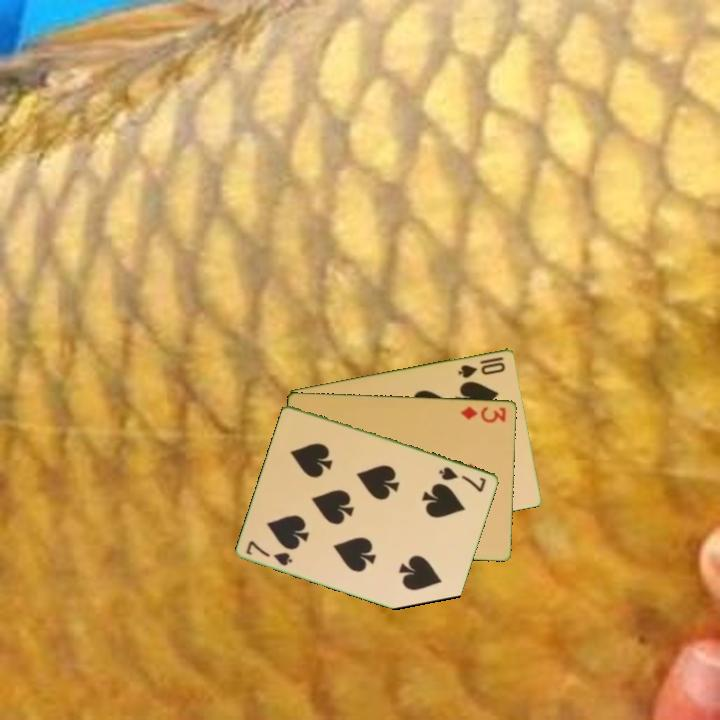10s: (455, 353, 508, 381)
3d: (457, 402, 509, 425)
7s: (436, 463, 489, 495), (242, 537, 295, 569)
